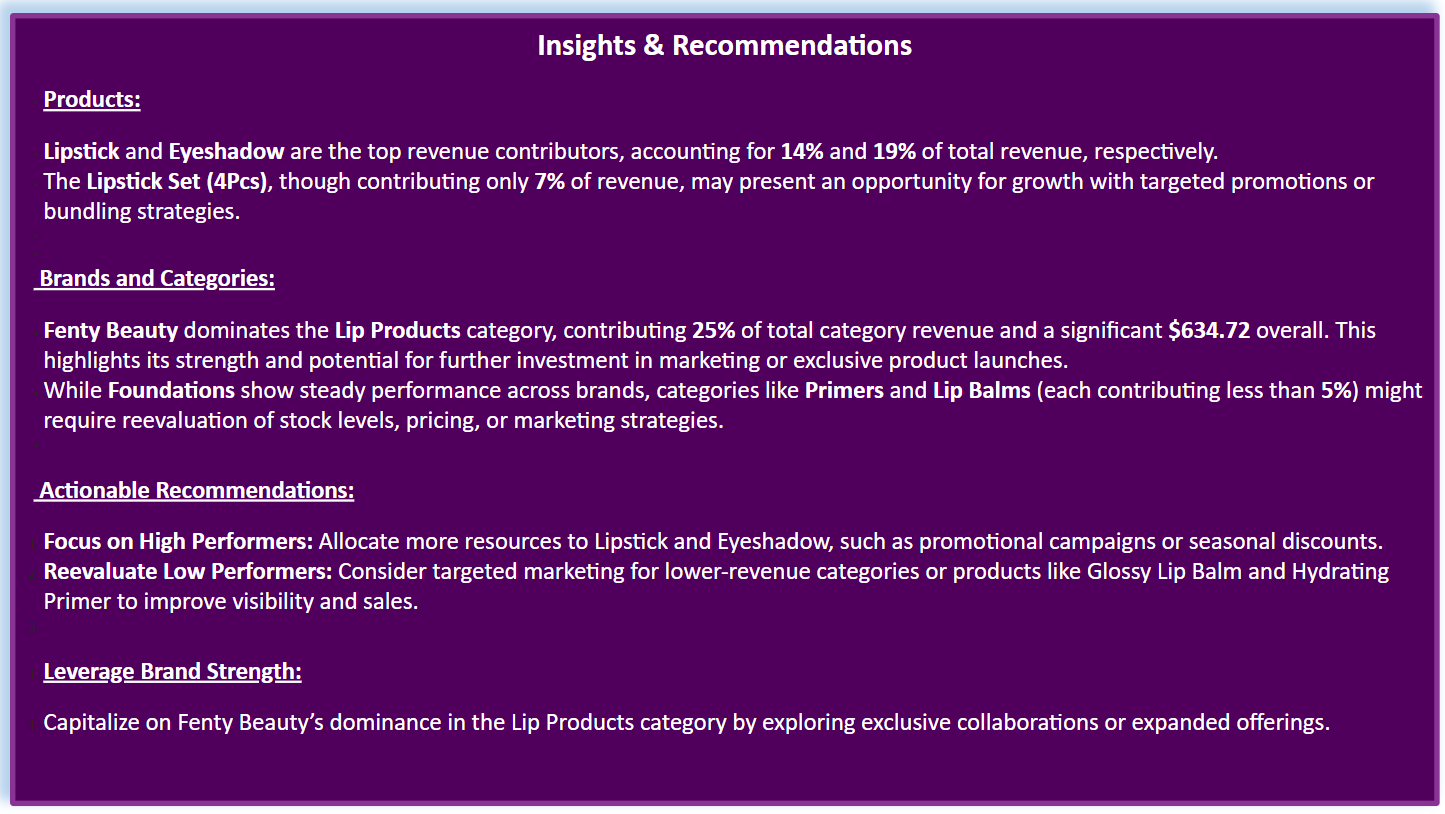

This screenshot's page, from the dashboard's own definition file:
{"tool":"powerbi","page":{"name":"Insights & Recommendations","canvas":[1280,720],"ordinal":16},"visuals":[{"type":"textbox","box":[28.4,17.9,1230.9,682.7],"z":0}]}

Visuals, with their boxes in screenshot pixels (x1, y1, x2, y2), scaled from the page's 1280x720 canvas onto the 1445x814 screenshot:
textbox: Rect(32, 20, 1422, 792)
